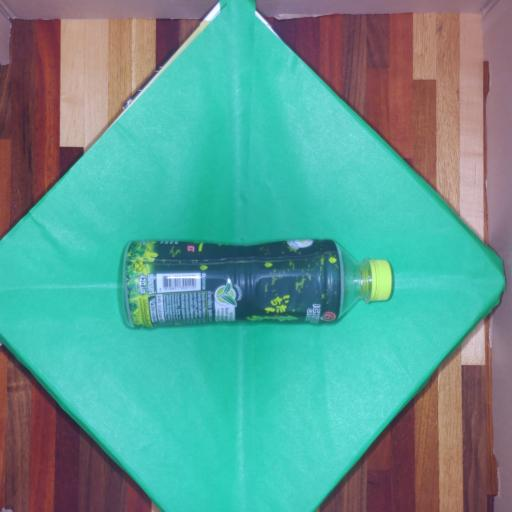bottle: (100, 208, 414, 344)
